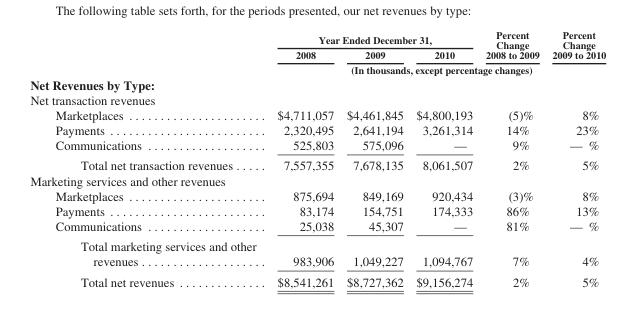table: (29, 28, 605, 288)
table column: (29, 28, 266, 288), (266, 28, 339, 288), (339, 28, 409, 288), (409, 28, 478, 288), (478, 28, 545, 288), (545, 28, 605, 288)
table column header: (29, 28, 605, 76)
table projected row header: (29, 91, 605, 107), (29, 76, 605, 91), (29, 172, 605, 187)
table row: (29, 235, 605, 271), (29, 28, 605, 47), (29, 154, 605, 172), (29, 137, 605, 154), (29, 218, 605, 235), (29, 271, 605, 288), (29, 91, 605, 107), (29, 202, 605, 218), (29, 47, 605, 62), (29, 76, 605, 91), (29, 107, 605, 122), (29, 122, 605, 137), (29, 172, 605, 187), (29, 187, 605, 202), (29, 62, 605, 76)
table spanning cell: (266, 62, 605, 76), (266, 28, 478, 47), (478, 28, 545, 62), (545, 28, 605, 62)
